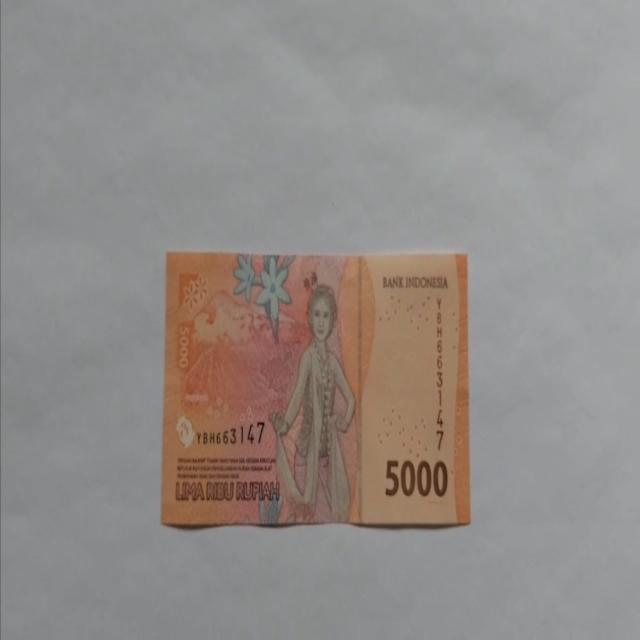lima ribu rupiah: (160, 249, 470, 529), (267, 282, 357, 524)
